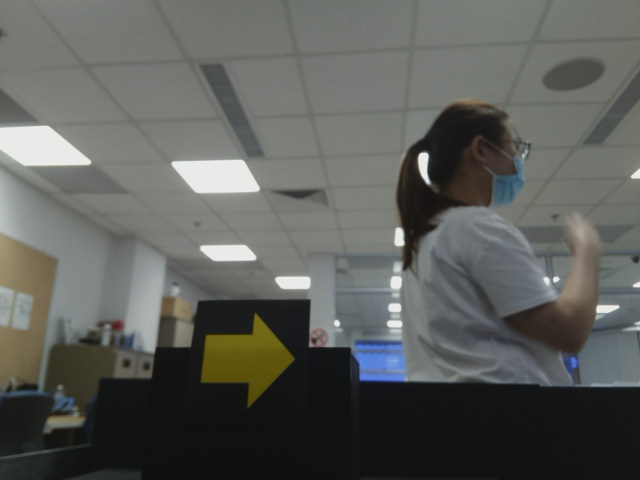right: (196, 312, 307, 415)
